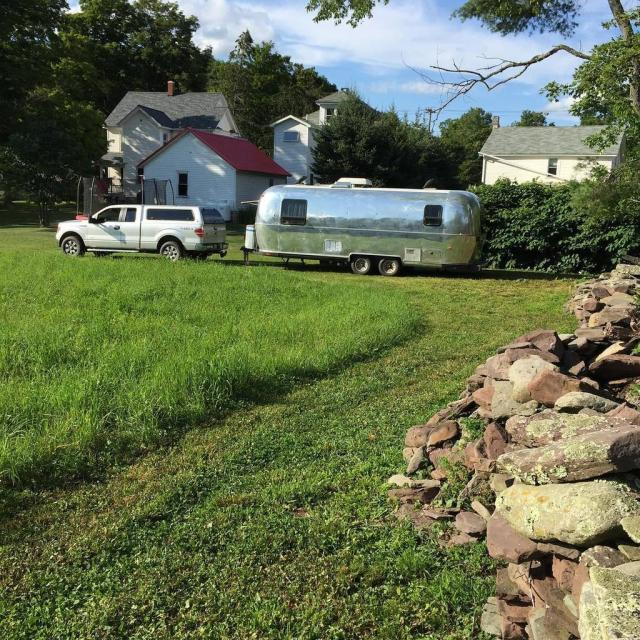car: (52, 186, 227, 259)
